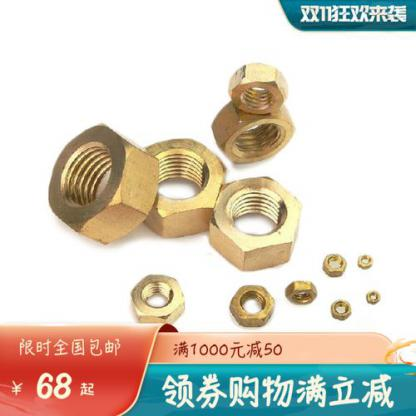FOD: (48, 122, 159, 247), (130, 134, 230, 240), (208, 176, 310, 269), (219, 60, 299, 115), (126, 274, 187, 326), (224, 282, 281, 326), (284, 279, 318, 305), (320, 251, 351, 277)
